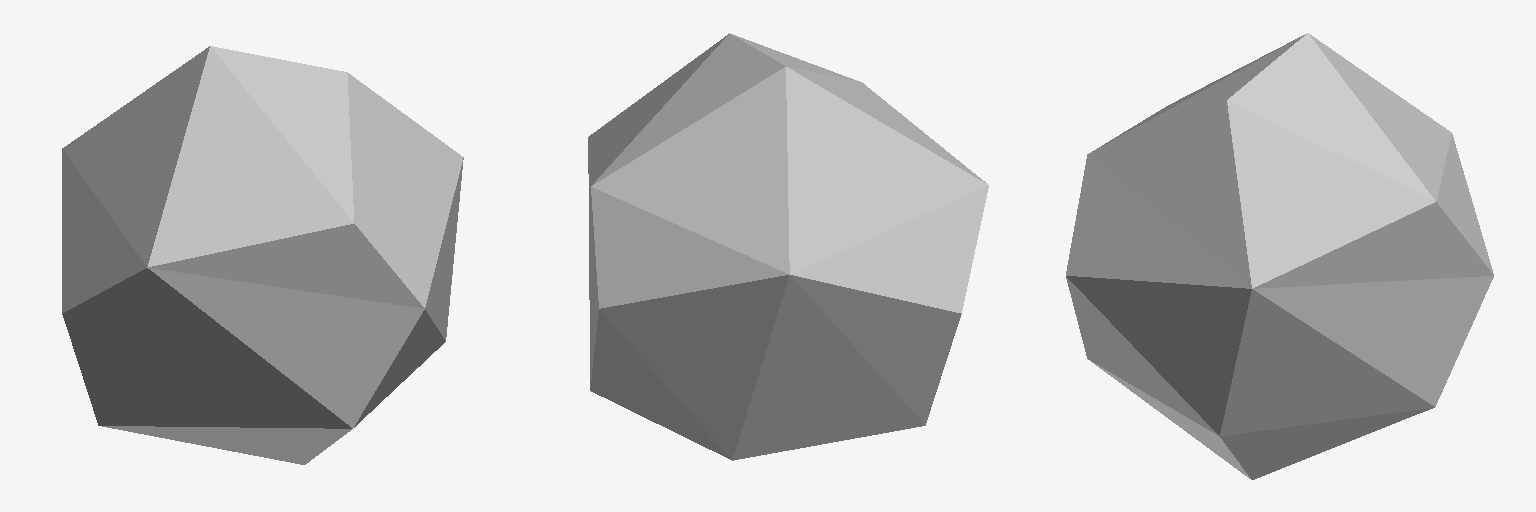
File: ico_small.obj
3 views of the same model, side by side, from view 1: azimuth 30°, elevation 25°; view 2: azimuth 150°, elevation 25°; view 3: azimuth 270°, elevation 25° (orthographic).
Visible parts, largest first — view 1: Icosphere; view 2: Icosphere; view 3: Icosphere.
Boxes of the visible parts, <box> form: Icosphere: <box>62,46,463,464</box>; Icosphere: <box>588,33,988,460</box>; Icosphere: <box>1066,33,1493,479</box>.
Size of the model in its own units: 2.07 by 2.12 by 1.99.